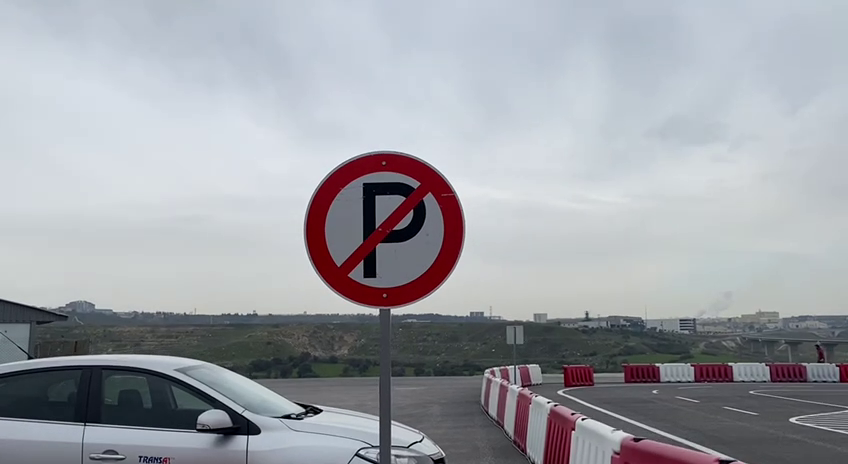noparking: (300, 143, 468, 314)
